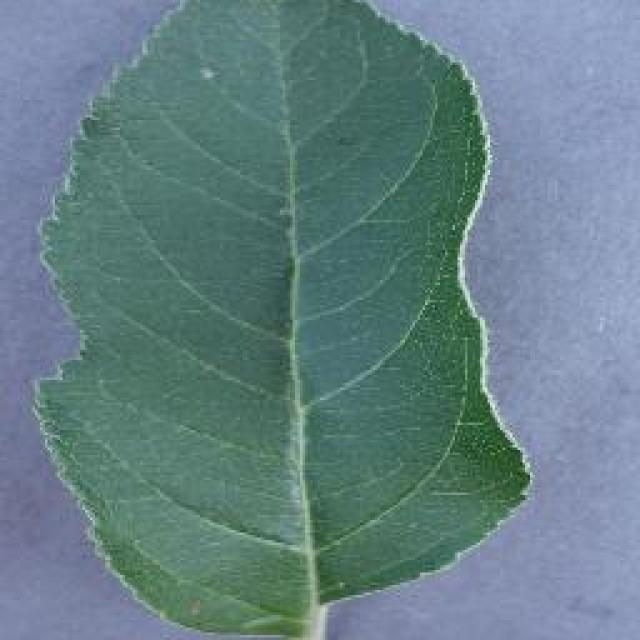apple healthy: (28, 0, 532, 638)
